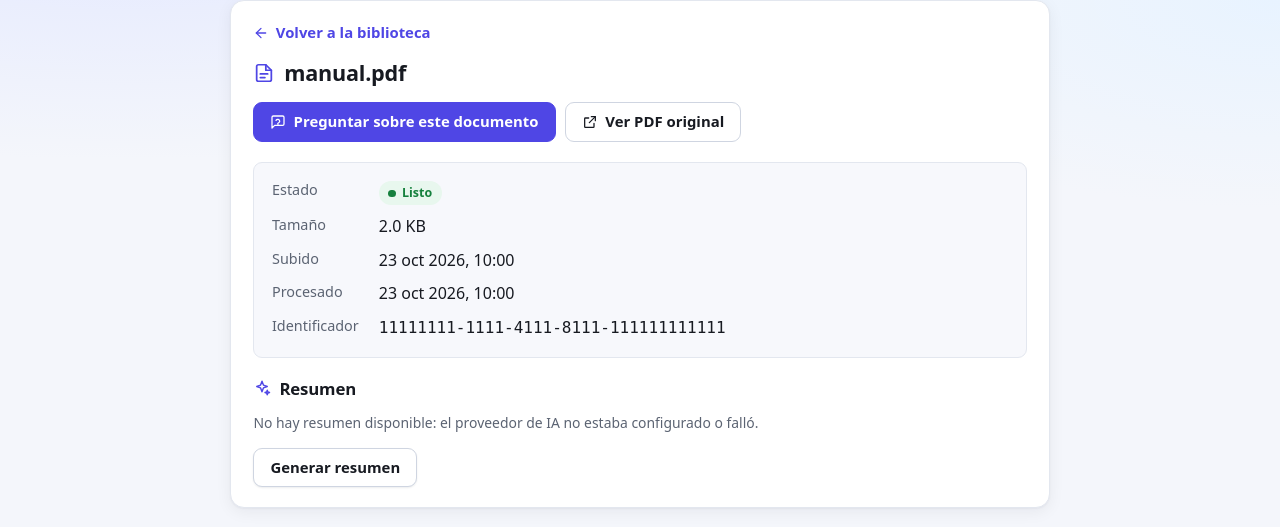
Test case: DocumentPage › permite generar el resumen si no lo tiene
Click the button "Generar resumen" at (335, 468), box [253,448,417,487]
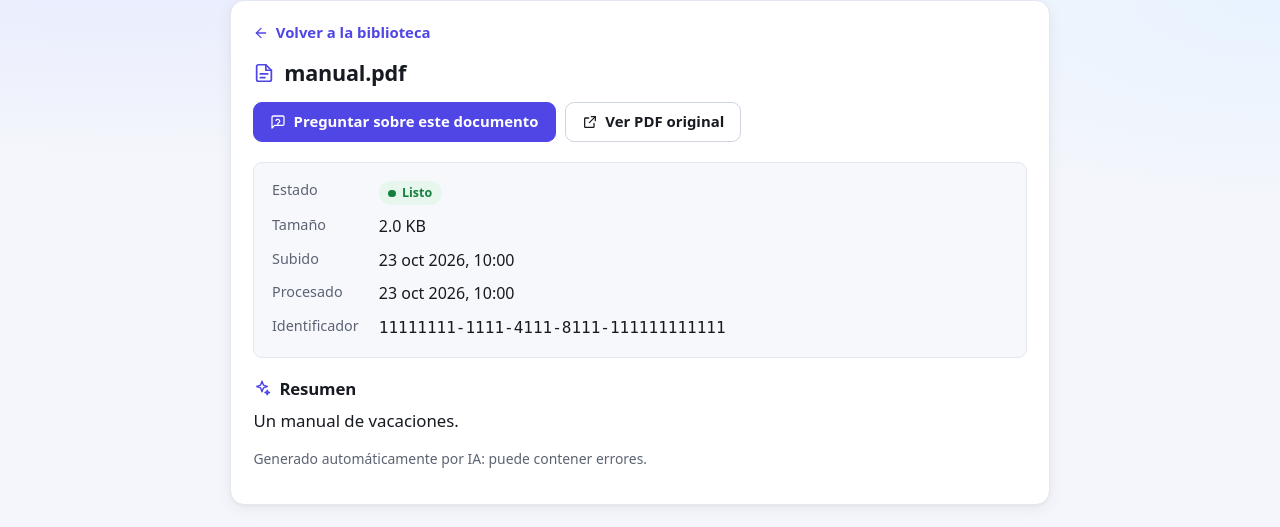
Now the text "Un manual de vacaciones." is shown, box [253,409,459,432]
